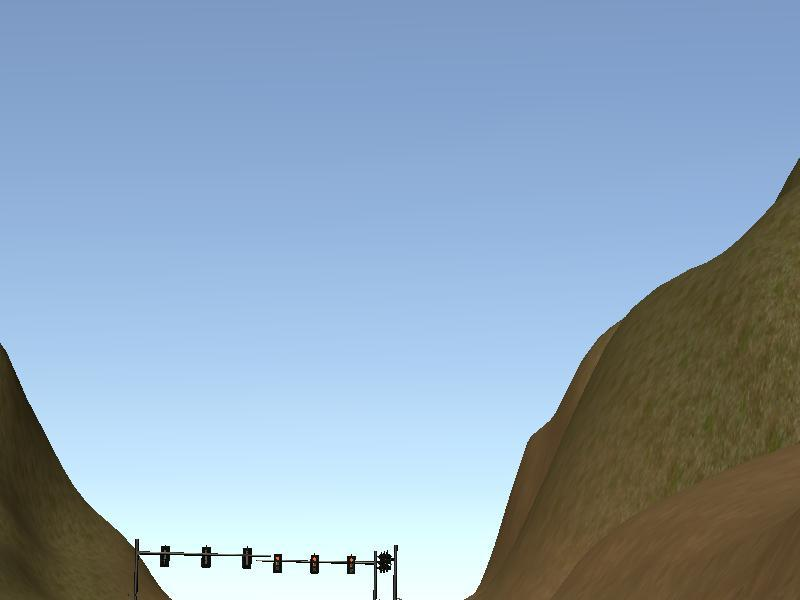Red: (309, 554, 319, 575), (273, 552, 281, 573), (347, 555, 355, 574)
